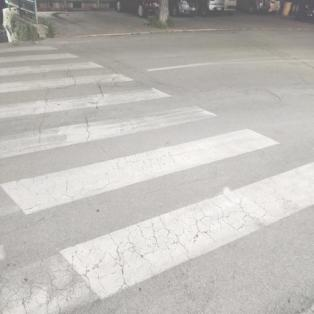Paso de Cebra: (1, 103, 282, 221)
